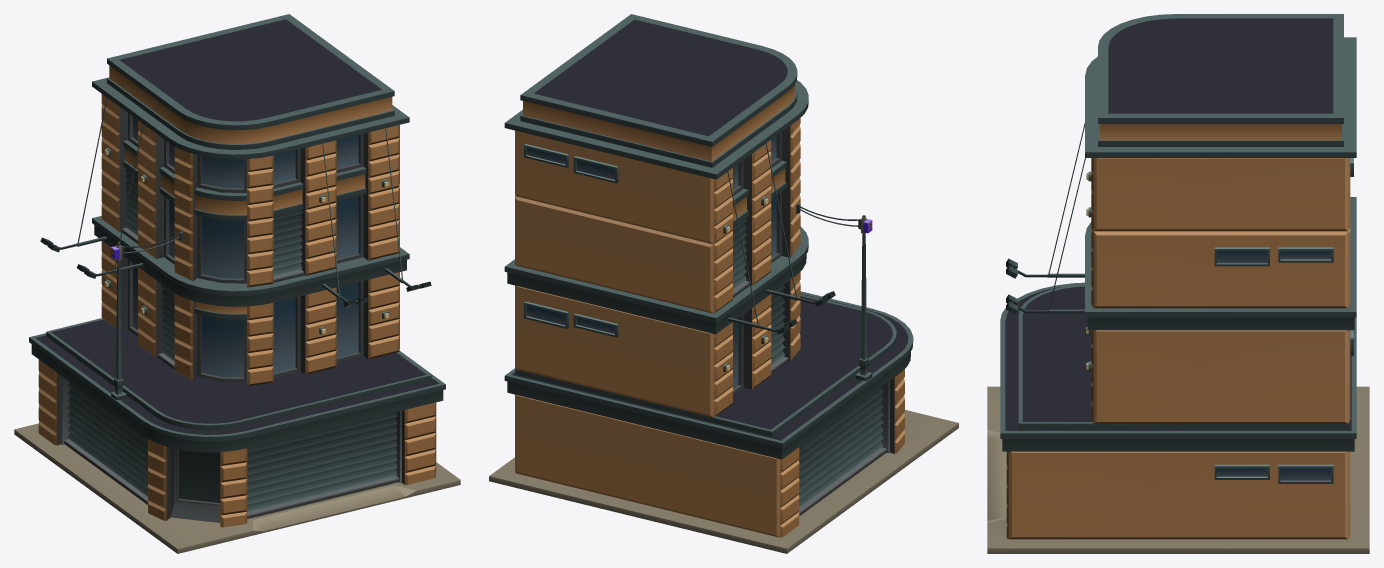
The model's file is Building_12G.fbx.
3 renders of one model, left to right at view 1: azimuth 30°, elevation 25°; view 2: azimuth 150°, elevation 25°; view 3: azimuth 270°, elevation 25°, orthographic. The views are drawn at different scales.
Visible parts, largest first — view 1: Building_12G, Building_12G_Door; view 2: Building_12G; view 3: Building_12G.
Boxes of the visible parts, left/top/right/bottom form: Building_12G: left=14, top=14, right=460, bottom=553; Building_12G_Door: left=247, top=412, right=399, bottom=518; Building_12G: left=489, top=14, right=958, bottom=553; Building_12G: left=987, top=14, right=1369, bottom=553.
Bounding box in the file's own units: 1800 × 2210 × 1800.
